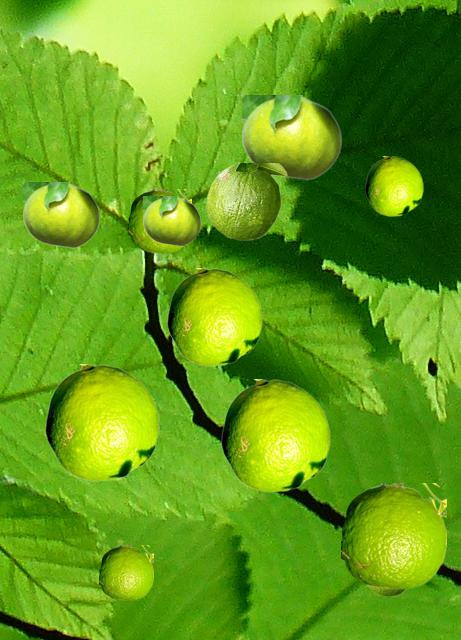dalandan: (45, 364, 158, 480), (221, 379, 329, 491), (341, 483, 445, 588), (167, 268, 261, 365), (242, 95, 341, 179), (206, 163, 286, 239), (23, 182, 99, 247), (128, 189, 190, 252), (365, 156, 422, 215), (99, 545, 152, 599), (143, 196, 200, 245), (367, 586, 405, 595)
